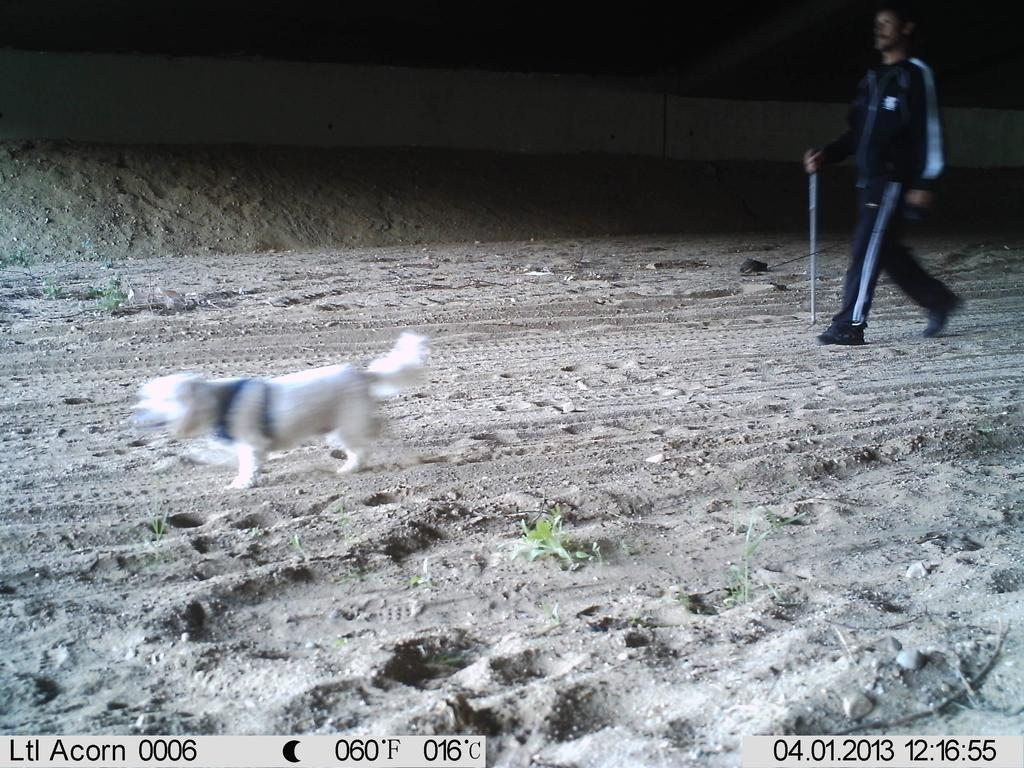dog: (127, 331, 432, 489)
